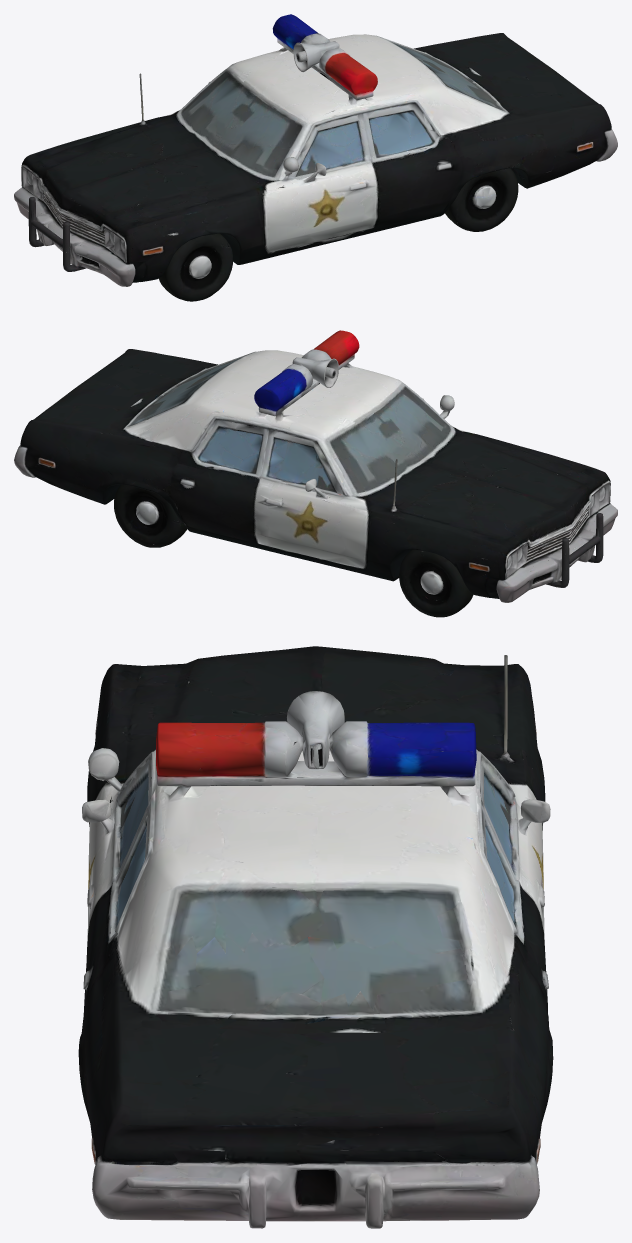
File: a3D-policecar.glb
The picture shows the model from 3 angles, top to bottom: view 1: azimuth 30°, elevation 25°; view 2: azimuth 150°, elevation 25°; view 3: azimuth 270°, elevation 25°; orthographic projection. The views are drawn at different scales.
Parts seen in each view (by area): view 1: geometry_0; view 2: geometry_0; view 3: geometry_0.
Boxes of the visible parts, bbox=[...] form: geometry_0: bbox=[14, 14, 617, 301]; geometry_0: bbox=[14, 330, 617, 617]; geometry_0: bbox=[78, 646, 553, 1228].
Size of the model in its own units: 1.9 by 0.6382 by 0.7452.
Materials: 1 (1 with a texture image).
